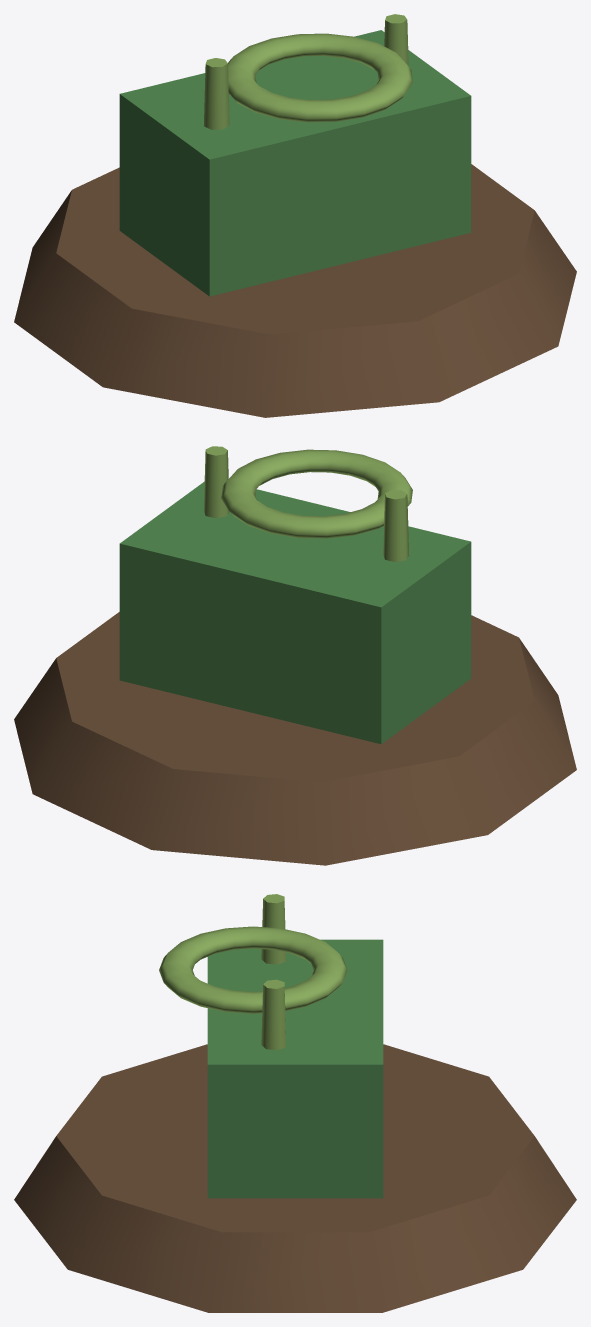
Rendered from offering_table.glb.
3 renders of one model, top to bottom at view 1: azimuth 30°, elevation 25°; view 2: azimuth 150°, elevation 25°; view 3: azimuth 270°, elevation 25°, orthographic. The views are drawn at different scales.
Parts seen in each view (by area): view 1: base, altar, emblem, candle_-1, candle_1; view 2: base, altar, emblem, candle_-1, candle_1; view 3: base, altar, emblem, candle_1, candle_-1.
Boxes of the visible parts, x1,y1,x2,y2 form: base: (14,164,576,417); altar: (119,30,471,296); emblem: (228,33,412,122); candle_-1: (204,58,229,129); candle_1: (384,14,408,65); base: (14,612,576,865); altar: (119,481,471,744); emblem: (221,449,412,538); candle_-1: (383,490,409,561); candle_1: (204,446,229,518); base: (14,1044,576,1312); altar: (207,939,383,1198); emblem: (159,926,347,1013); candle_1: (261,979,285,1050); candle_-1: (261,894,285,964).
Size of what is drawn, in the model's own units: 3.8 by 2.02 by 4.
